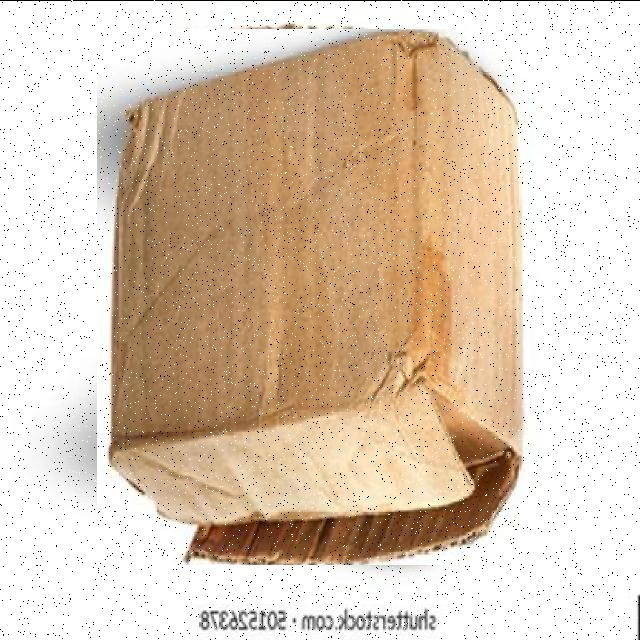defect: (97, 28, 529, 564)
